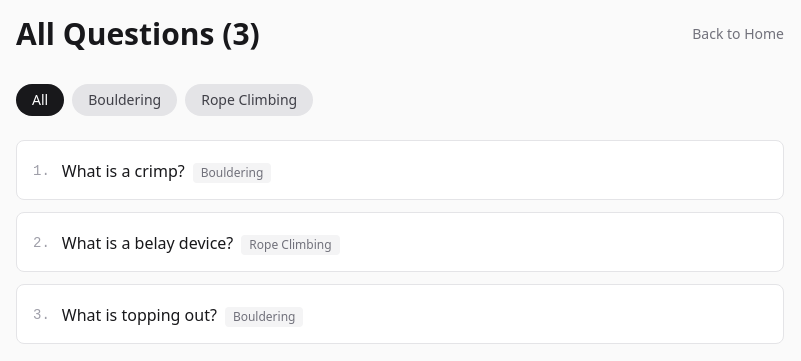
Test: QuestionsPage › should filter questions by category when button is clicked
This screenshot has width=801, height=361.
// Click on bouldering category
Click the button "Bouldering": (125, 100) [72,84,177,116]
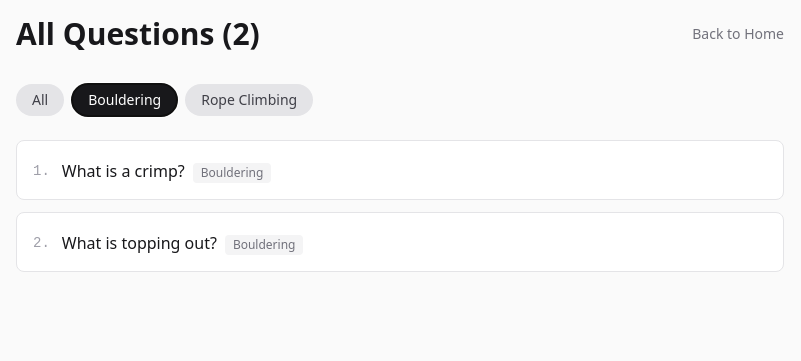
Expected: the text "What is a crimp?" is shown, [62,160,185,182]
Expected: the heading "All Questions (2)" is shown, [16,16,260,52]
Expected: the button "What is a belay device?" is gone
